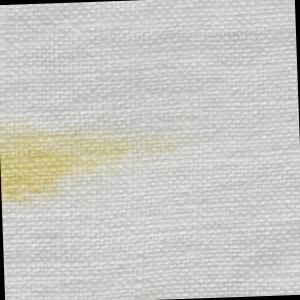Stain: (1, 112, 150, 208)
